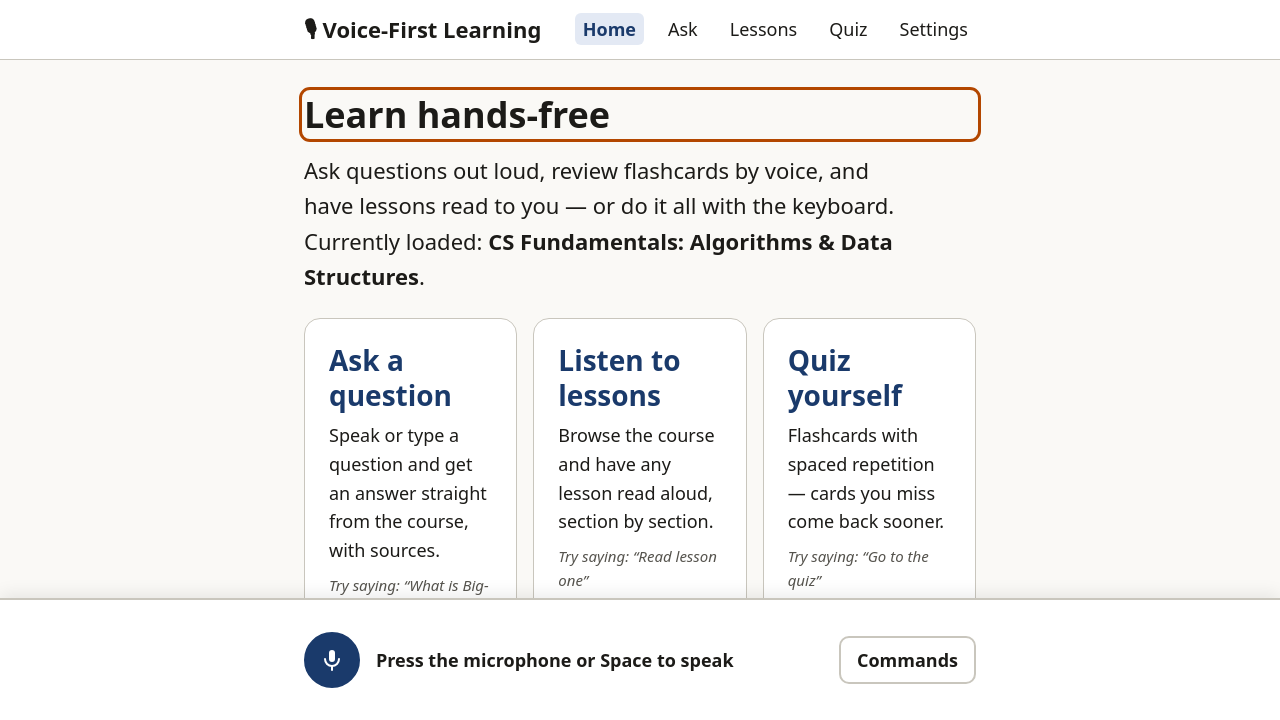
Test case: App (integration, real course data) › opens the voice command help from the HUD
The image size is (1280, 720).
Click the button "Commands": (908, 660) [839, 636, 976, 684]
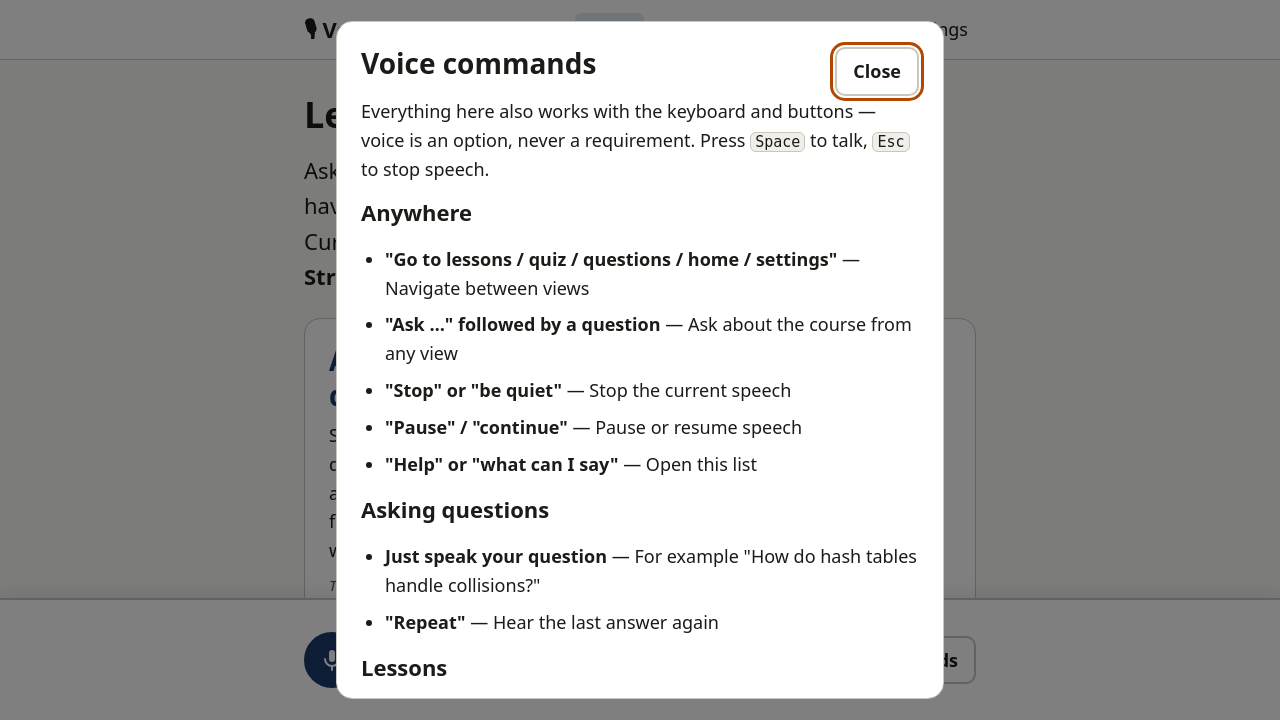
Expected: the heading "Voice commands" is shown, [361, 46, 596, 81]
